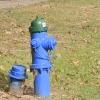a fire hydrant: (30, 17, 57, 92)
